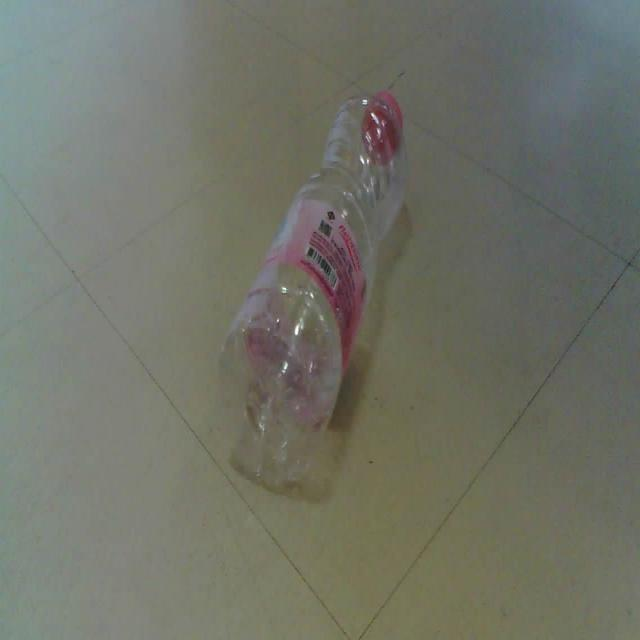empty: (220, 92, 406, 487)
